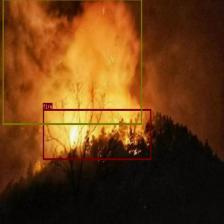fire: (43, 109, 151, 160)
smoke: (2, 0, 142, 125)
